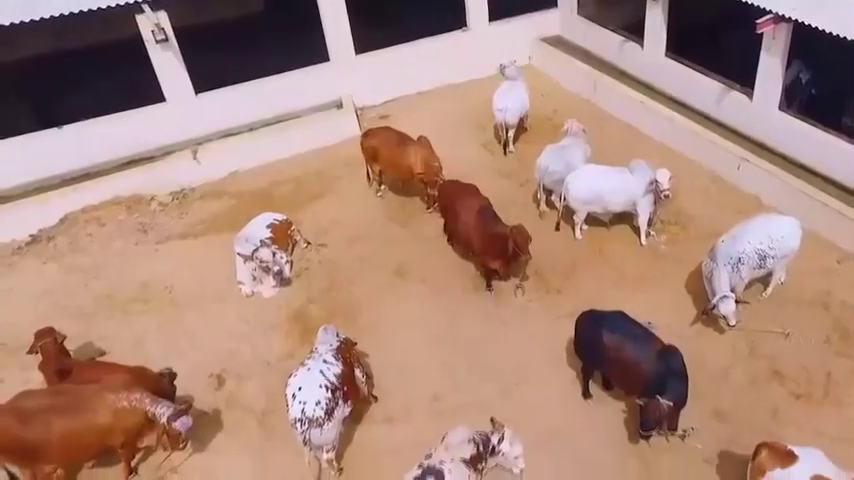bo: (1, 375, 199, 478), (570, 302, 695, 445), (697, 209, 814, 336), (281, 314, 378, 467), (433, 172, 543, 301), (24, 314, 182, 399), (221, 205, 329, 304), (559, 160, 674, 252), (347, 116, 446, 210), (403, 418, 541, 480), (527, 112, 598, 219), (481, 51, 541, 158), (740, 433, 849, 480)
